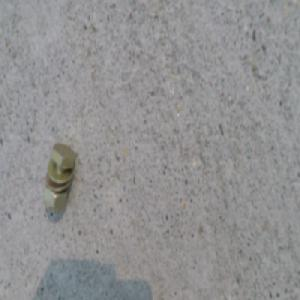BoltNutSet: (47, 138, 80, 210)
